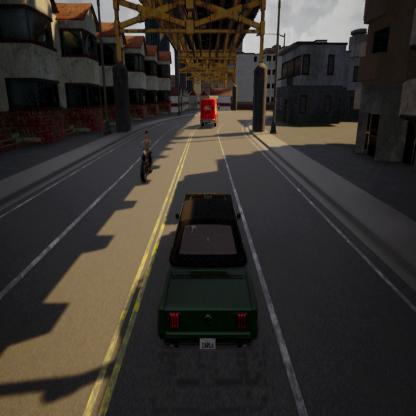Cars: (153, 185, 267, 361), (194, 93, 222, 132)
